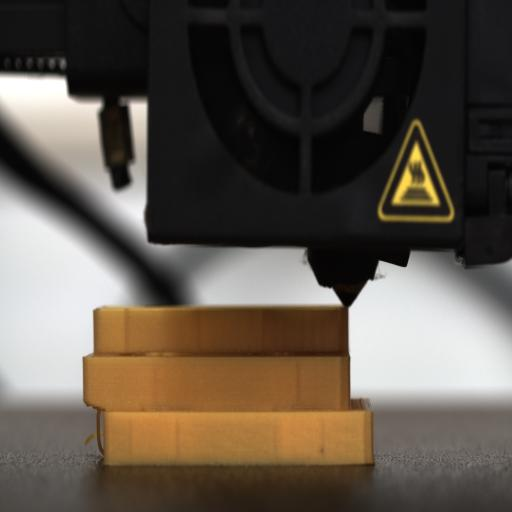layer_shift: (84, 390, 374, 423)
